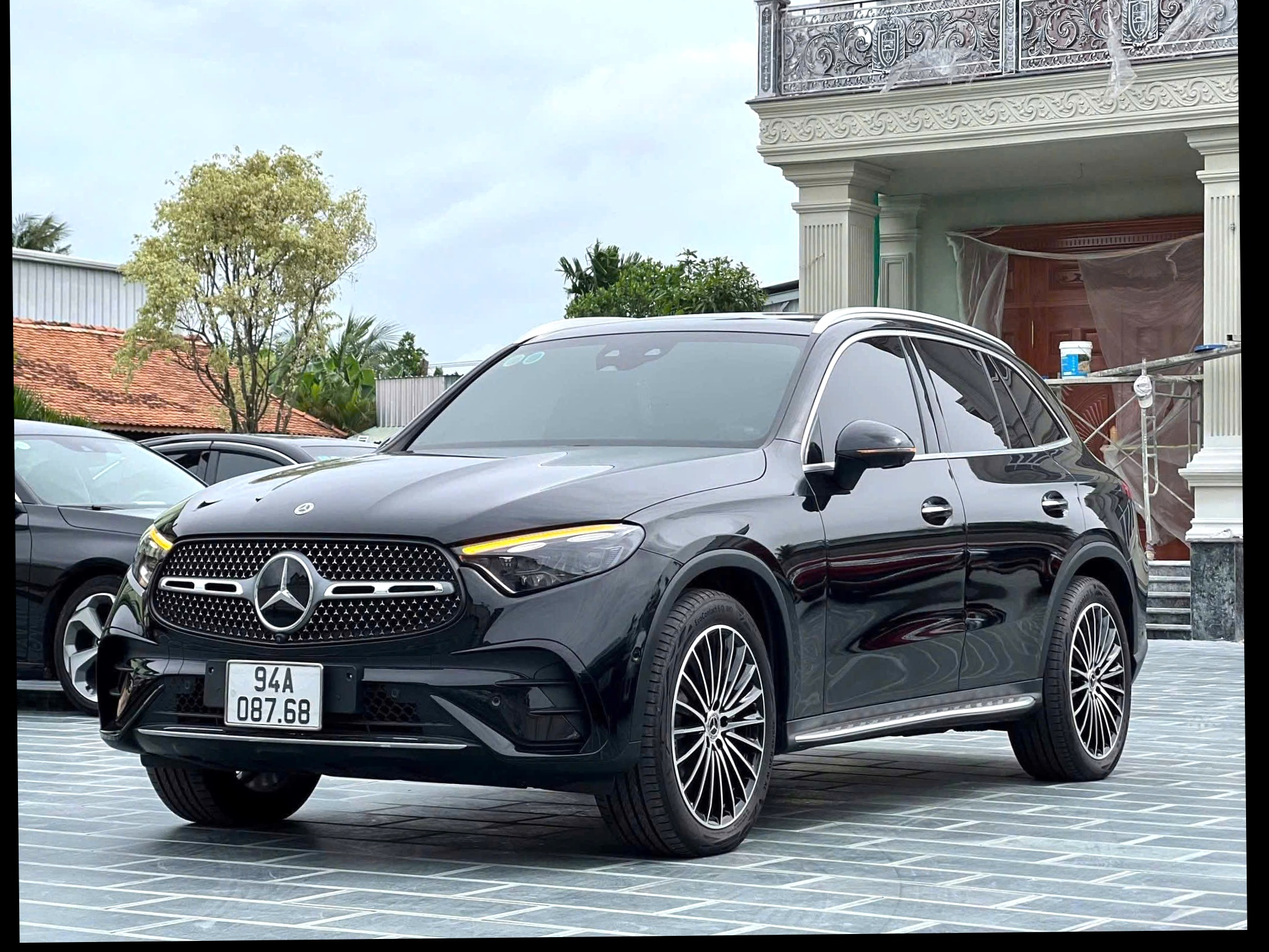Bien-so: (156, 651, 263, 731)
